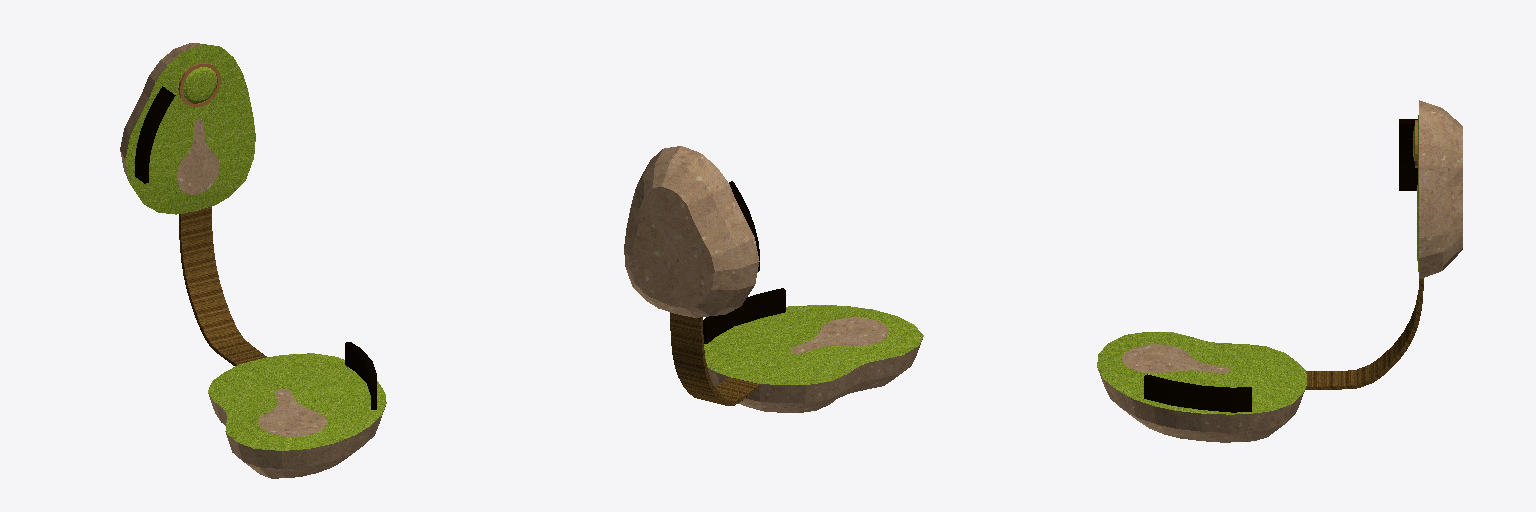
3 views of the same model, side by side, from view 1: azimuth 30°, elevation 25°; view 2: azimuth 150°, elevation 25°; view 3: azimuth 270°, elevation 25° (orthographic).
Visible parts, largest first — view 1: Plane.002; view 2: Plane.002; view 3: Plane.002.
Boxes of the visible parts, box(x1,y1,x2,y2) form: Plane.002: box(120, 43, 386, 478); Plane.002: box(624, 146, 923, 412); Plane.002: box(1097, 100, 1462, 442).
Bounding box in the file's own units: 1633 × 2882 × 3046.
5 materials, 3 textured.